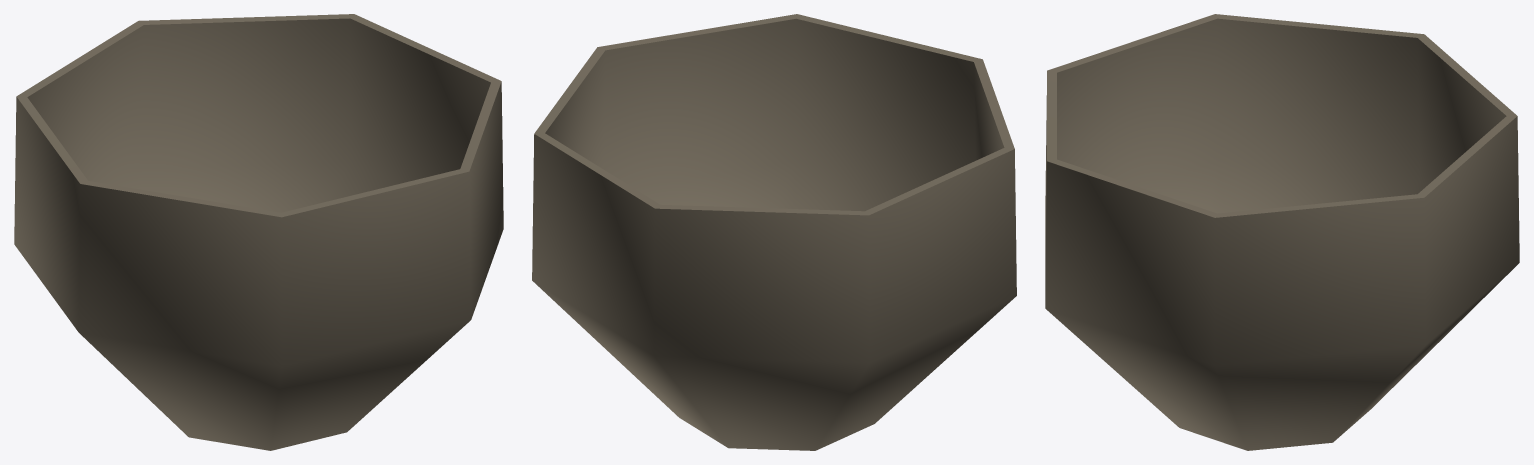
Rendered from SM_BowlA.glb.
The picture shows the model from 3 angles, left to right: view 1: azimuth 30°, elevation 25°; view 2: azimuth 150°, elevation 25°; view 3: azimuth 270°, elevation 25°; orthographic projection.
Parts seen in each view (by area): view 1: SM_BowlA; view 2: SM_BowlA; view 3: SM_BowlA.
Boxes of the visible parts, <box> form: SM_BowlA: <box>14,14,503,450</box>; SM_BowlA: <box>532,14,1016,450</box>; SM_BowlA: <box>1045,14,1519,450</box>.
Bounding box in the file's own units: 0.1111 × 0.0739 × 0.1083.
